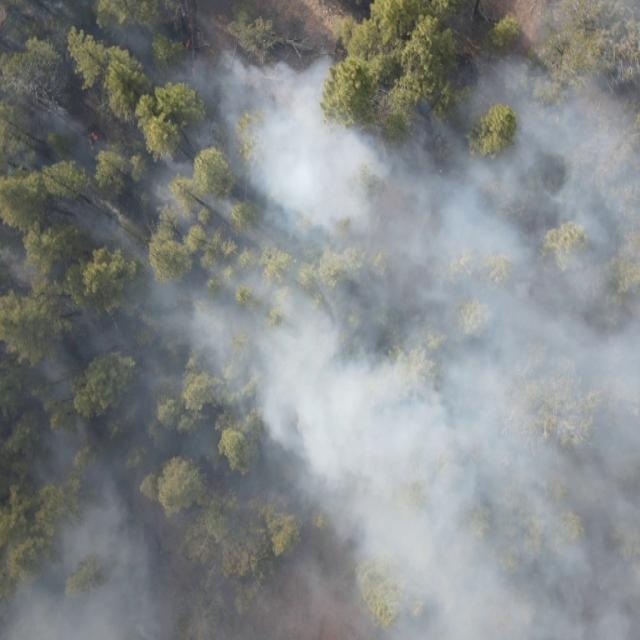fire: (88, 128, 102, 154), (182, 40, 191, 50)
smoke: (0, 57, 331, 640), (331, 115, 640, 640), (467, 0, 640, 114), (0, 0, 248, 58)
